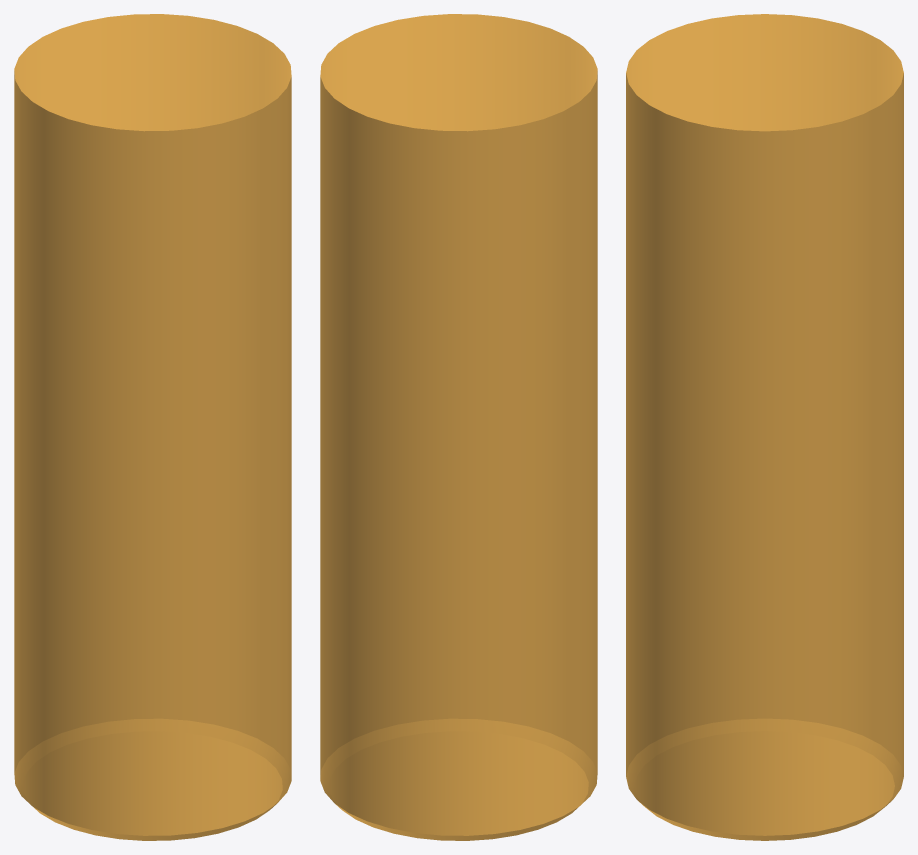
The model's file is bottle_liquid.fbx.
3 views of the same model, side by side, from view 1: azimuth 30°, elevation 25°; view 2: azimuth 150°, elevation 25°; view 3: azimuth 270°, elevation 25° (orthographic).
Visible parts, largest first — view 1: bottle_liquid; view 2: bottle_liquid; view 3: bottle_liquid.
Boxes of the visible parts, left/top/right/bottom form: bottle_liquid: left=14, top=14, right=291, bottom=840; bottle_liquid: left=320, top=14, right=597, bottom=840; bottle_liquid: left=626, top=14, right=903, bottom=840.
Size of the model in its own units: 0.06 by 0.17 by 0.06.
